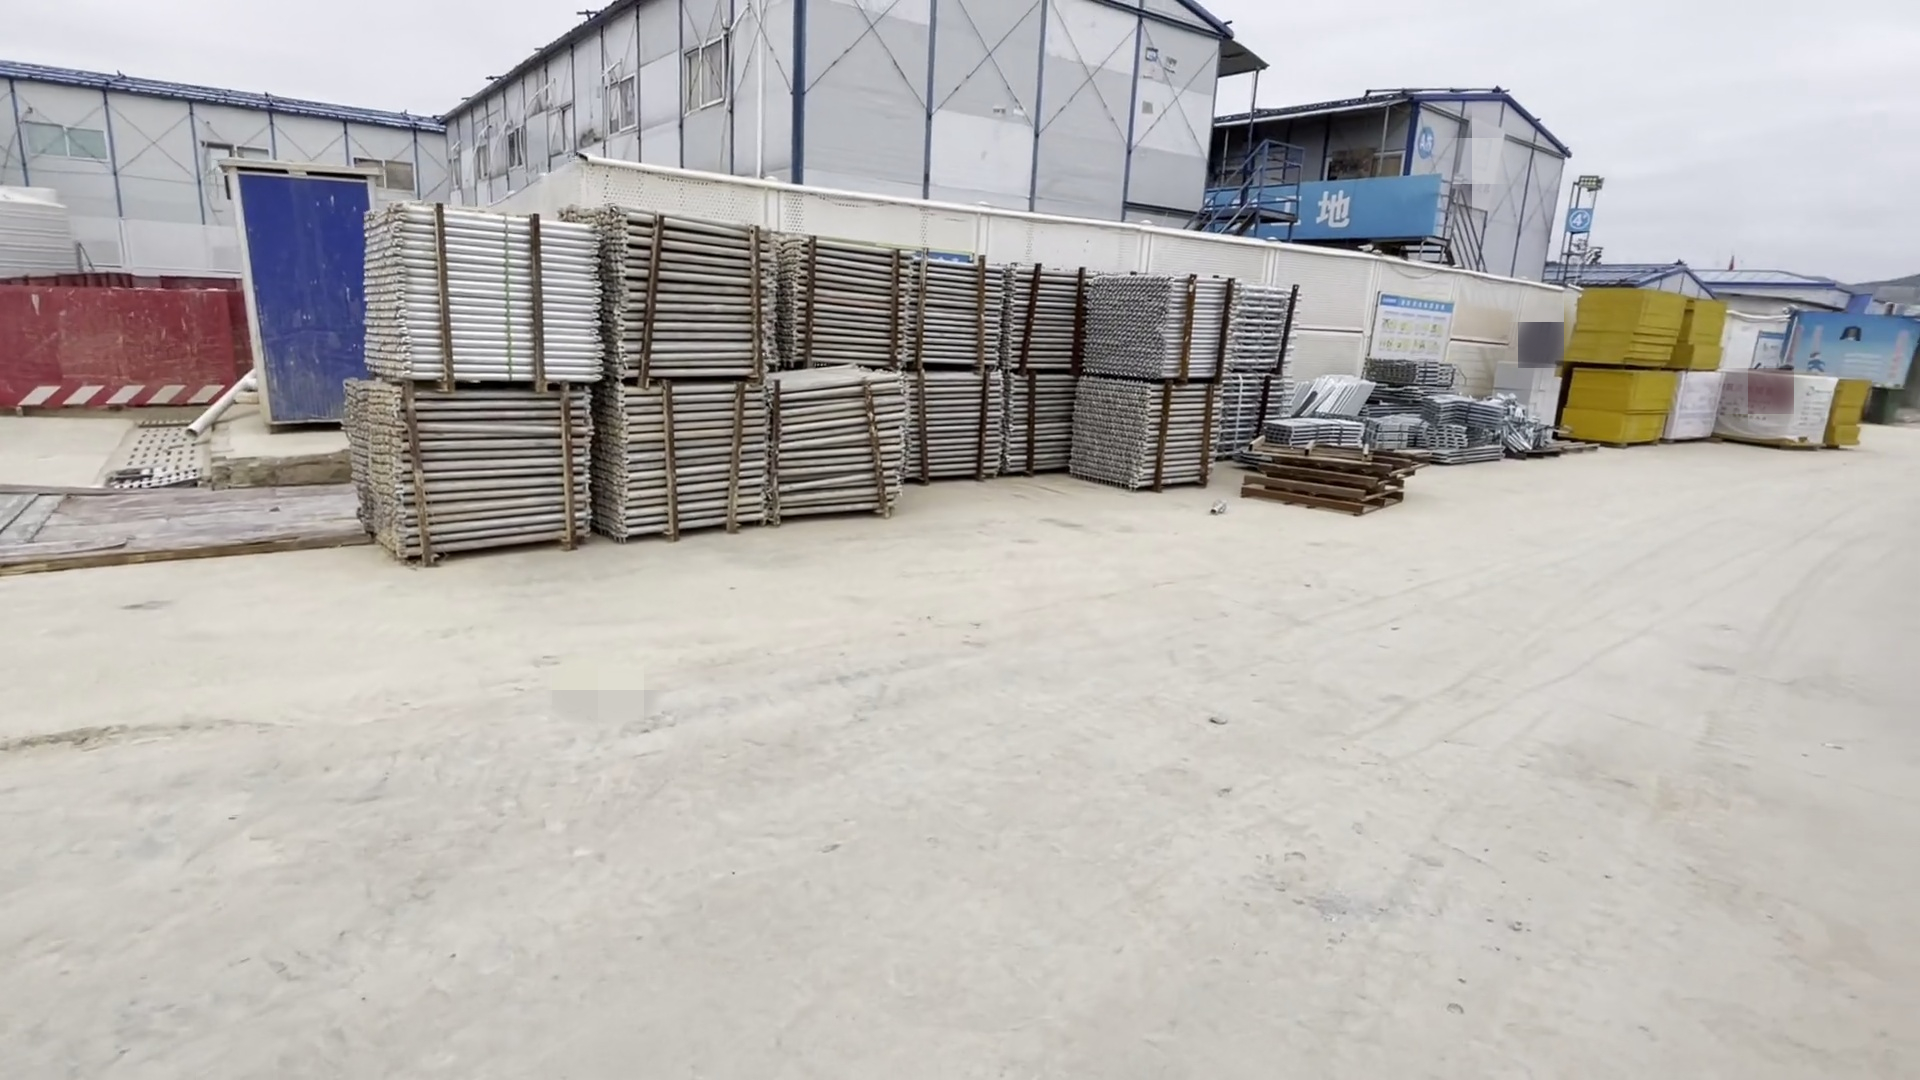board: (1569, 281, 1684, 459)
scaffold: (365, 212, 1294, 568)
